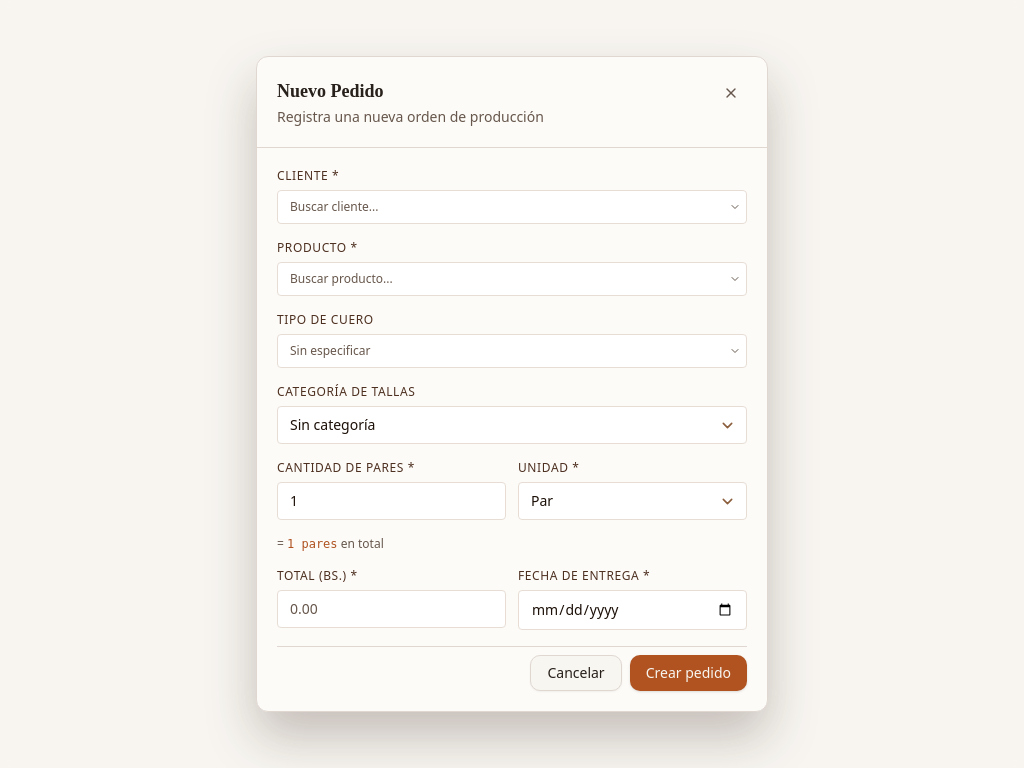
Test: PedidoModal — nuevo pedido, valores por defecto › cambia la unidad a "docena" automáticamente al elegir una categoría de tallas
Step 1. Select "Adulto (Tallas 37–42)" in the dropdown showing "Sin categoría" below "Categoría de tallas" → x=512, y=425, box [277, 406, 747, 444]
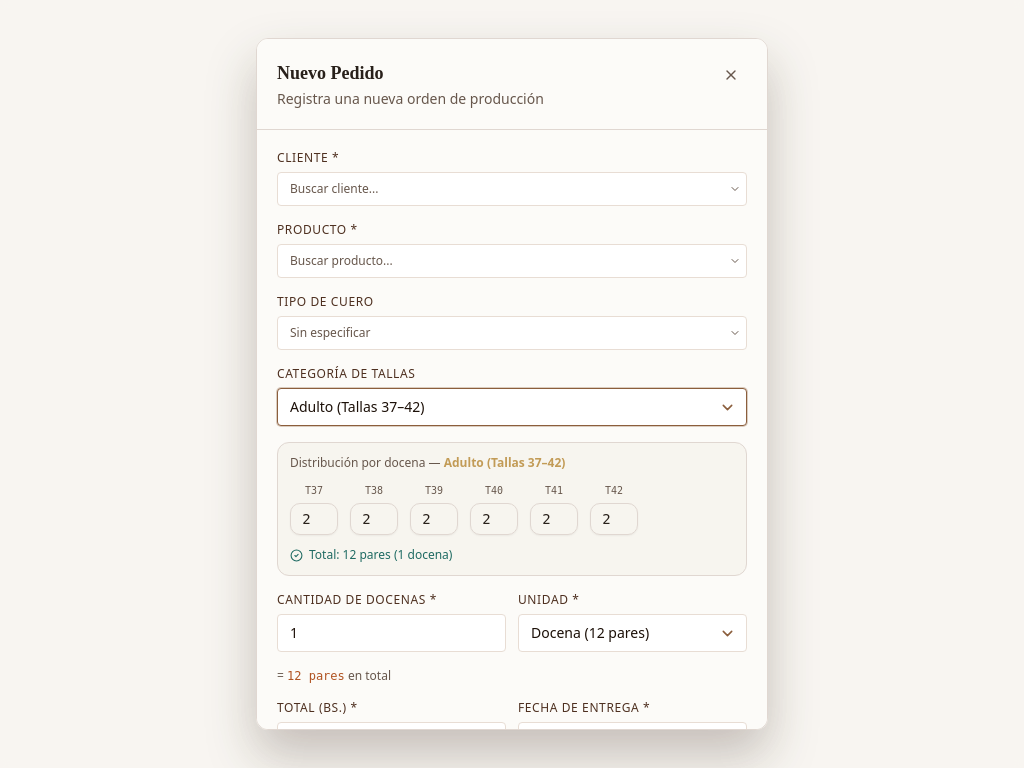
Expected: the dropdown showing "Docena (12 pares)" below "Unidad *" is shown, [518, 614, 747, 652]
Expected: the text "Distribución por docena — Adulto (Tallas 37–42)" is shown, [290, 454, 565, 471]
